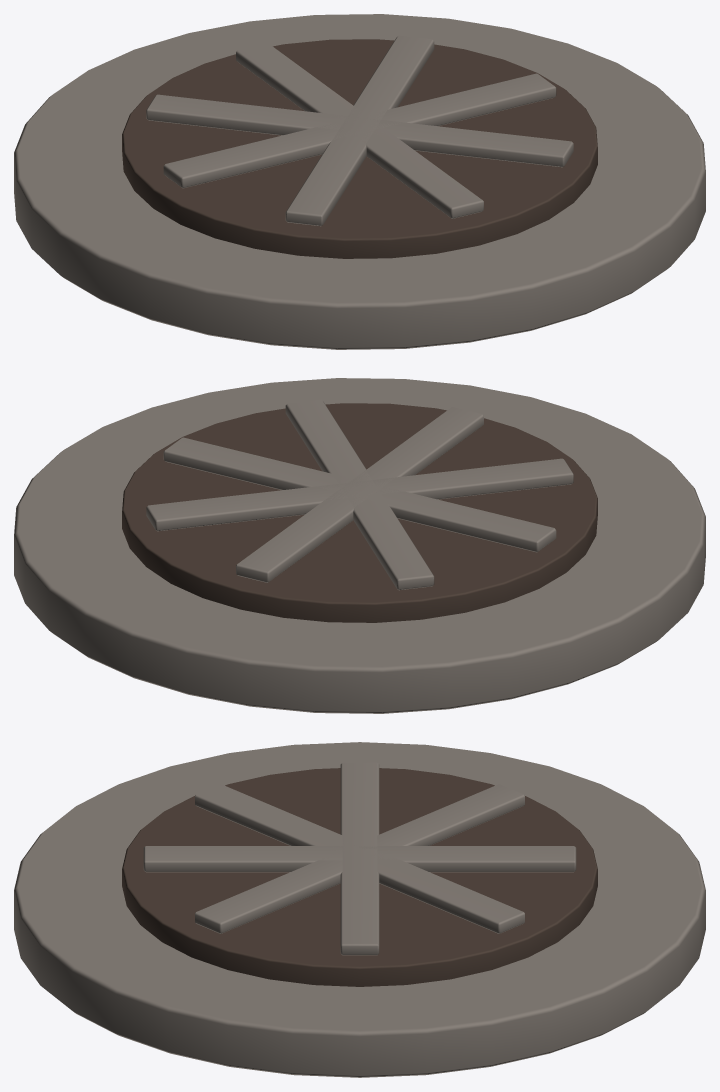
File: prop_drain_old_01.glb
3 renders of one model, top to bottom at view 1: azimuth 30°, elevation 25°; view 2: azimuth 150°, elevation 25°; view 3: azimuth 270°, elevation 25°, orthographic.
Visible parts, largest first — view 1: drain_outer_ring.001, drain_dark_hole.001, drain_slit_04.001, drain_slit_01.001, drain_slit_03.001, drain_slit_02.001; view 2: drain_outer_ring.001, drain_dark_hole.001, drain_slit_02.001, drain_slit_01.001, drain_slit_03.001, drain_slit_04.001; view 3: drain_outer_ring.001, drain_dark_hole.001, drain_slit_03.001, drain_slit_02.001, drain_slit_04.001, drain_slit_01.001.
Boxes of the visible parts, x1=… form: drain_outer_ring.001: x1=14, y1=14, x2=705, y2=349; drain_dark_hole.001: x1=122, y1=39, x2=597, y2=258; drain_slit_04.001: x1=146, y1=94, x2=573, y2=167; drain_slit_01.001: x1=163, y1=73, x2=556, y2=188; drain_slit_03.001: x1=236, y1=43, x2=483, y2=218; drain_slit_02.001: x1=285, y1=35, x2=434, y2=226; drain_outer_ring.001: x1=14, y1=378, x2=705, y2=713; drain_dark_hole.001: x1=122, y1=403, x2=597, y2=622; drain_slit_02.001: x1=146, y1=458, x2=573, y2=531; drain_slit_01.001: x1=163, y1=437, x2=556, y2=552; drain_slit_03.001: x1=236, y1=407, x2=483, y2=582; drain_slit_04.001: x1=285, y1=399, x2=434, y2=590; drain_outer_ring.001: x1=14, y1=742, x2=705, y2=1077; drain_dark_hole.001: x1=122, y1=768, x2=597, y2=986; drain_slit_03.001: x1=143, y1=846, x2=576, y2=872; drain_slit_02.001: x1=195, y1=784, x2=524, y2=933; drain_slit_04.001: x1=195, y1=784, x2=524, y2=933; drain_slit_01.001: x1=340, y1=762, x2=379, y2=955.
Bounding box in the file's own units: 0.32 × 0.041 × 0.32.
